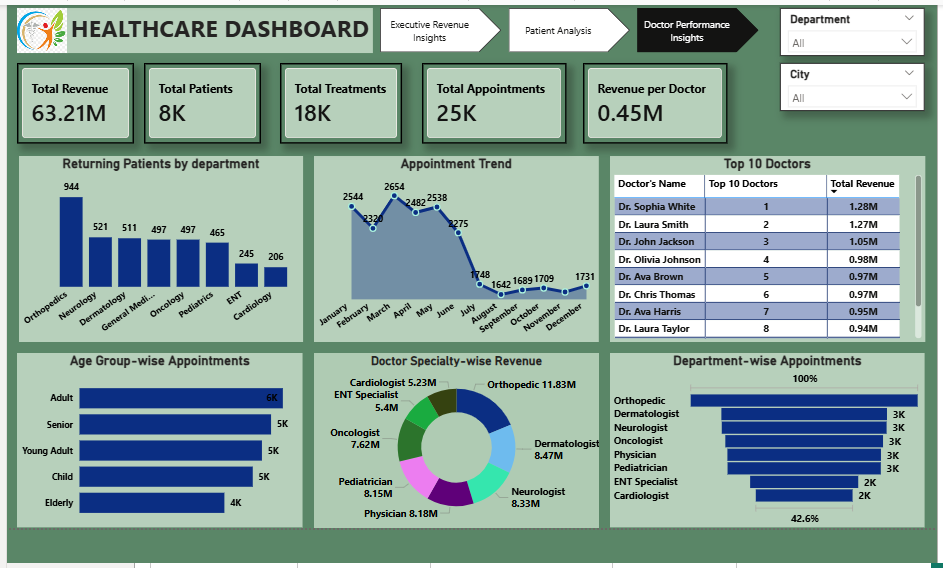

This screenshot's page, from the dashboard's own definition file:
{"tool":"powerbi","page":{"name":"Doctor Performance Insights","canvas":[1280,720],"ordinal":6},"visuals":[{"type":"funnel","title":"Department-wise Appointments","fields":{"Y":["DAX_Measure.Total Appointments"],"Category":["Doctors.specialty"]},"box":[829.4,479.5,433.4,240.5],"z":0},{"type":"areaChart","title":"Appointment Trend","fields":{"Y":["DAX_Measure.Total Appointments"],"Category":["DateTable.MonthName"]},"box":[421.9,207.4,391.7,256.3],"z":1000},{"type":"tableEx","title":"Top 10 Doctors","fields":{"Values":["Doctors.doctor_name","DAX_Measure.Top 10 Doctors","DAX_Measure.Total Revenue"]},"box":[829.9,207.8,433.5,256],"z":2000},{"type":"cardVisual","fields":{"Data":["DAX_Measure.Total Revenue"]},"box":[14.4,79.2,161.3,110.9],"z":6000},{"type":"cardVisual","fields":{"Data":["DAX_Measure.Total Patients"]},"box":[188.6,79.2,161.3,110.9],"z":7000},{"type":"cardVisual","fields":{"Data":["DAX_Measure.Total Treatments"]},"box":[375.8,79.2,168.5,110.9],"z":8000},{"type":"cardVisual","fields":{"Data":["DAX_Measure.Total Appointments"]},"box":[571.7,79.2,198.7,110.9],"z":9000},{"type":"barChart","title":"Age Group-wise Appointments","fields":{"Category":["Patients.age group"],"Y":["DAX_Measure.Total Appointments"]},"box":[14.4,479.5,393.1,240.5],"z":10000},{"type":"donutChart","title":"Doctor Specialty-wise Revenue","fields":{"Y":["DAX_Measure.Total Revenue"],"Category":["Doctors.specialty"]},"box":[422.5,479,392.3,240.9],"z":11000},{"type":"slicer","title":"Department","fields":{"Values":["Doctors.department"]},"box":[1064.2,4.3,198.7,66.2],"z":12000},{"type":"slicer","title":"Department","fields":{"Values":["Patients.city"]},"box":[1064.2,79.2,198.7,66.2],"z":13000},{"type":"lineClusteredColumnComboChart","fields":{"Y":["DAX_Measure.Returning Patients"],"Category":["Doctors.department"]},"box":[16.5,207.8,390.9,256],"z":14000},{"type":"cardVisual","fields":{"Data":["DAX_Measure.Revenue per Doctor"]},"box":[793.4,79.2,198.7,110.9],"z":15000},{"type":"image","box":[13.8,4.1,68.8,61.9],"z":15001},{"type":"textbox","box":[82.6,4.1,421.2,61.9],"z":15002},{"type":"pageNavigator","box":[513.4,4.1,521.6,61.9],"z":15003}]}

Visuals, with their boxes on the page's 1280x720 design canvas (x1, y1, x2, y2). These are canvas units, not pixel positions in the 943x568 screenshot, which may show the page scaled, cropped or inside an application window:
"Department-wise Appointments" funnel: locate(829, 480, 1263, 720)
"Appointment Trend" areaChart: locate(422, 207, 814, 464)
"Top 10 Doctors" tableEx: locate(830, 208, 1263, 464)
cardVisual - DAX_Measure.Total Revenue: locate(14, 79, 176, 190)
cardVisual - DAX_Measure.Total Patients: locate(189, 79, 350, 190)
cardVisual - DAX_Measure.Total Treatments: locate(376, 79, 544, 190)
cardVisual - DAX_Measure.Total Appointments: locate(572, 79, 770, 190)
"Age Group-wise Appointments" barChart: locate(14, 480, 408, 720)
"Doctor Specialty-wise Revenue" donutChart: locate(422, 479, 815, 720)
"Department" slicer: locate(1064, 4, 1263, 70)
"Department" slicer: locate(1064, 79, 1263, 145)
lineClusteredColumnComboChart - DAX_Measure.Returning Patients x Doctors.department: locate(16, 208, 407, 464)
cardVisual - DAX_Measure.Revenue per Doctor: locate(793, 79, 992, 190)
image: locate(14, 4, 83, 66)
textbox: locate(83, 4, 504, 66)
pageNavigator: locate(513, 4, 1035, 66)
